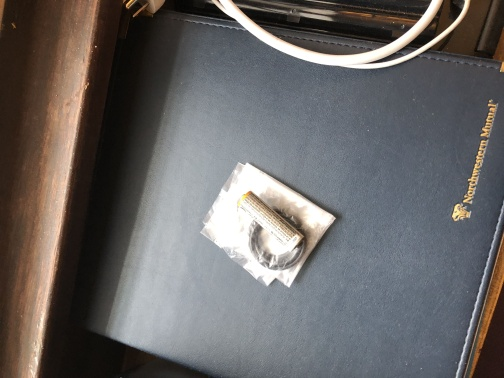battery: (235, 187, 309, 254)
